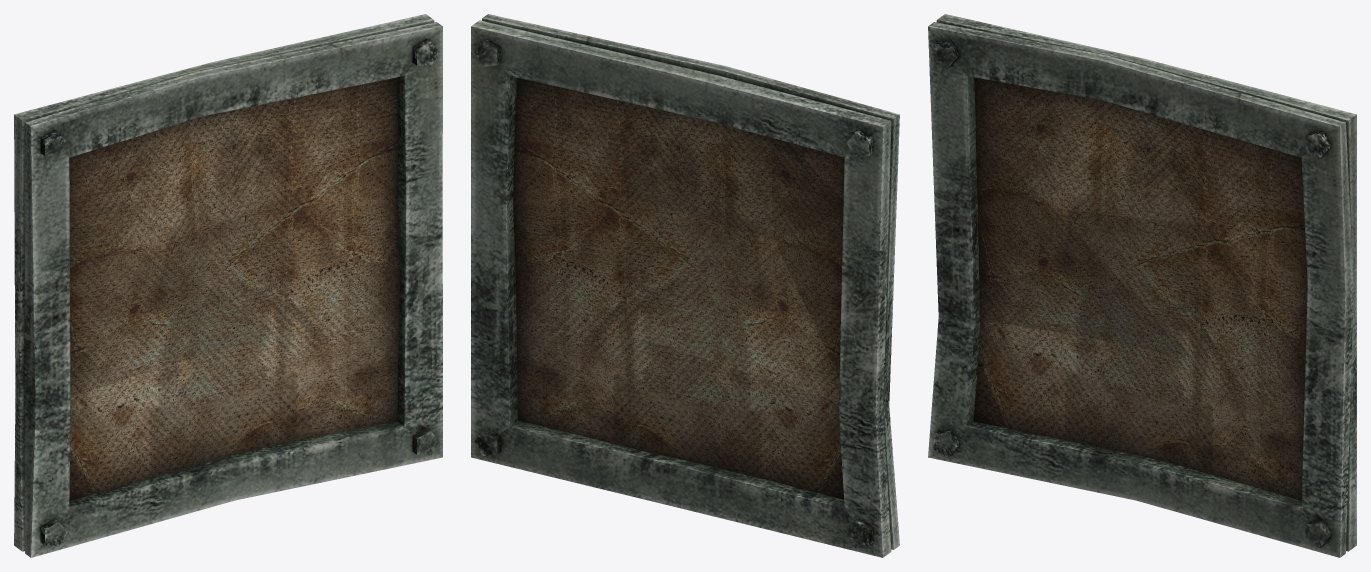
The model's file is stencil04.dae.
3 renders of one model, left to right at view 1: azimuth 30°, elevation 25°; view 2: azimuth 150°, elevation 25°; view 3: azimuth 330°, elevation 25°, orthographic.
Parts seen in each view (by area): view 1: stencil_paper04, stencil_frame04; view 2: stencil_paper04, stencil_frame04; view 3: stencil_paper04, stencil_frame04.
Part boxes in pixels (x1=…): stencil_paper04: x1=69, y1=77, x2=399, y2=500; stencil_frame04: x1=14, y1=14, x2=442, y2=557; stencil_paper04: x1=513, y1=77, x2=844, y2=499; stencil_frame04: x1=471, y1=14, x2=899, y2=557; stencil_paper04: x1=973, y1=77, x2=1307, y2=500; stencil_frame04: x1=928, y1=14, x2=1356, y2=557.
Bounding box in the file's own units: 0.2191 × 0.221 × 0.023.
